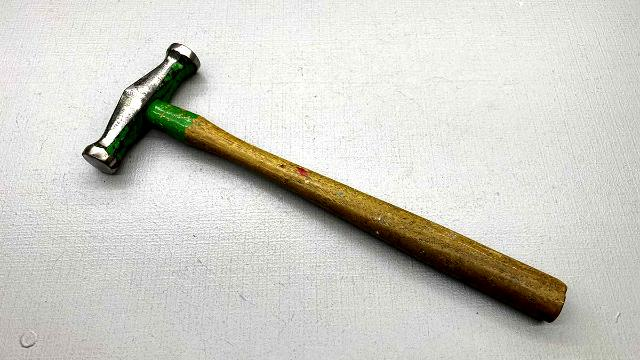hammer: (77, 39, 573, 329)
